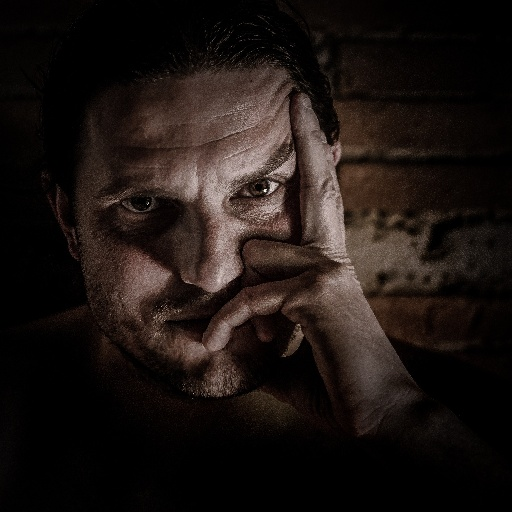hand: (215, 125, 436, 440)
